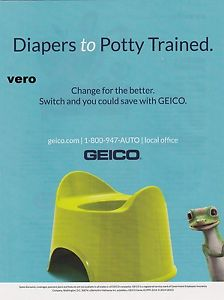geico: (80, 146, 146, 164)
